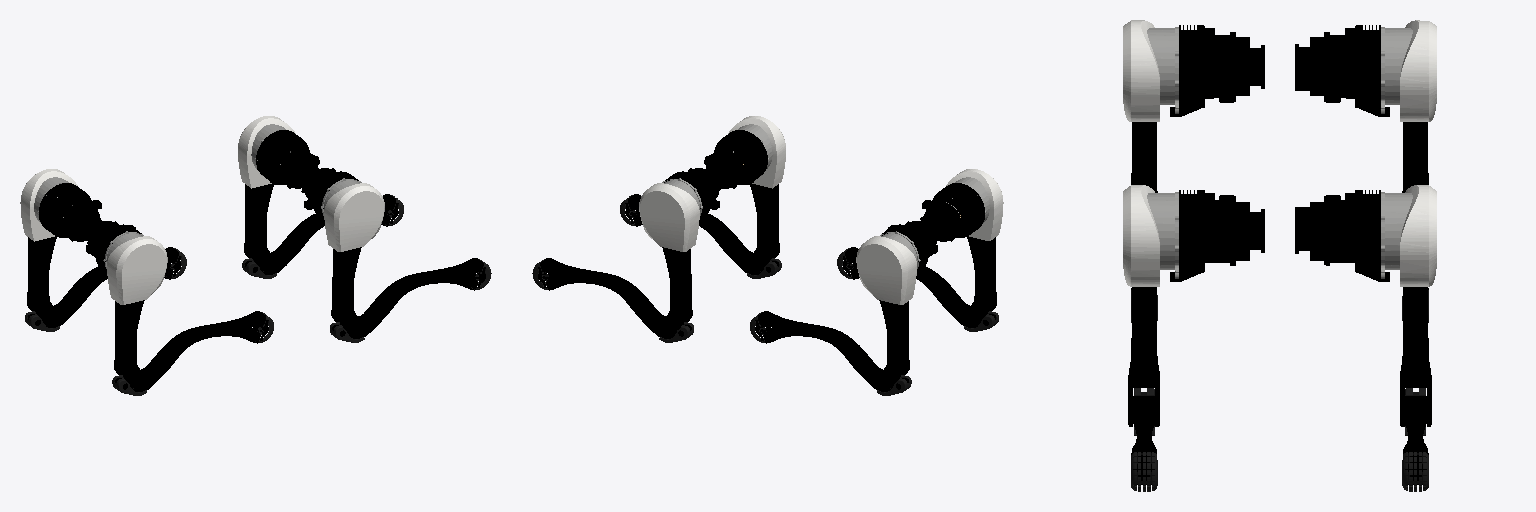
URDF robot description (X20):
<?xml version="1.0" encoding="utf-8"?>
<robot name="X20">


  <link
    name="BASE">
    <inertial>
      <origin
        xyz="0.005 0.000413 0.004"
        rpy="0 0 0" />
      <mass
        value="26.398" />
      <inertia ixx="0.1632" ixy="-5.2136E-05" ixz="-0.00019406" iyy="0.40648" iyz="8.2679E-05" izz="0.52596" />
    </inertial>
    <visual>
      <geometry>
        <mesh
          filename="package://X20/meshes/Torso.dae" />
      </geometry>
      <material
        name="">
        <color
          rgba="0.69804 0.69804 0.69804 1" />
      </material>
    </visual>
    <collision>
      <geometry>
        <mesh
          filename="package://X20/meshes/Torso.dae" />
      </geometry>
    </collision>
  </link>

  <link name="imu_link">
    <inertial>
      <mass value="0.0000001"/>
      <origin rpy="0 0 0" xyz="0 0 0"/>
      <inertia ixx="0.0000000001" ixy="0" ixz="0" iyy="0.00000000001" iyz="0" izz="0.000000001"/>
    </inertial>
  <visual>
    <origin rpy="0 0 0" xyz="0 0 0"/>
    <geometry>
      <box size="0.001 0.001 0.001"/>
    </geometry>
  </visual>
  <collision>
    <origin rpy="0 0 0" xyz="0 0 0"/>
    <geometry>
      <box size=".001 .001 .001"/>
    </geometry>
  </collision>
 </link>
 <joint name="imu_joint" type="fixed">
    <axis xyz="0 0 0"/> 
    <origin xyz="0 0 0"/>
    <parent link="BASE"/>
    <child link="imu_link"/>
  </joint>


  <link name="LF_HIP">
    <inertial>
      <origin xyz="-0.00075689 -0.0089129 -5.0528E-05" />
      <mass value="1.5767" />
      <inertia ixx="0.0012141" ixy="6.1989E-06" ixz="2.8652E-06" iyy="0.0016912" iyz="3.7E-06" izz="0.0013431" />
    </inertial>
    <visual>
      <geometry>
        <mesh filename="package://X20/meshes/FL_Hip.dae" />
      </geometry>
    </visual>
    <collision>
      <geometry>
        <mesh filename="package://X20/meshes/FL_Hip.dae" />
      </geometry>
    </collision>
  </link>

  <joint name="LF_HAA" type="revolute">
    <origin xyz="0.292 0.08 0" />
    <parent link="BASE" />
    <child link="LF_HIP" />
    <axis xyz="1 0 0" />
    <limit
      lower="-0.38397"
      upper="0.38397"
      effort="126.1"
      velocity="12"  />
  </joint>

  <link name="LF_THIGH">
    <inertial>
      <origin xyz="-0.0025264 -0.022118 -0.0292" />
      <mass value="3.0063" />
      <inertia ixx="0.0058102" ixy="4.2848E-05" ixz="-3.0437E-06" iyy="0.0080686" iyz="-6.889E-05" izz="0.003874" />
    </inertial>
    <visual>
      <geometry>
        <mesh filename="package://X20/meshes/L_Thigh.dae" />
      </geometry>
    </visual>
    <collision>
      <geometry>
        <mesh filename="package://X20/meshes/L_Thigh.dae" />
      </geometry>
    </collision>
  </link>

  <joint name="LF_HFE" type="revolute">
    <origin xyz="0 0.12325 0" />
    <parent link="LF_HIP" />
    <child link="LF_THIGH" />
    <axis xyz="0 -1 0" />
    <limit
      lower="-2.75762"
      upper="0.48869"
      effort="111.4"
      velocity="19"/>
  </joint>

  <link name="LF_SHANK">
    <inertial>
      <origin xyz="0.0075224 2.5888E-05 -0.17586" />
      <mass value="0.54849" />
      <inertia ixx="0.0057" ixy="1.16E-07" ixz="0.000153" iyy="0.006" iyz="-1.12E-06" izz="0.00029" />
    </inertial>
    <visual>
      <geometry>
        <mesh filename="package://X20/meshes/Shank.dae" />
      </geometry>
    </visual>
    <collision>
      <geometry>
        <mesh filename="package://X20/meshes/Shank.dae" />
      </geometry>
    </collision>
  </link>

  <joint name="LF_KFE" type="revolute">
    <origin xyz="0 0 -0.3" />
    <parent link="LF_THIGH" />
    <child link="LF_SHANK" />
    <axis xyz="0 -1 0" />
    <limit
      lower="0.66322"
      upper="2.84488"
      effort="195.8"
      velocity="19"  />
  </joint>

  <link name="RF_HIP">
    <inertial>
      <origin xyz="-0.000757 0.009 5.0528E-05" />
      <mass value="1.5767" />
      <inertia ixx="0.0012141" ixy="-6.1989E-06" ixz="-2.8652E-06" iyy="0.0016912" iyz="3.7E-06" izz="0.0013431" />
    </inertial>
    <visual>
      <geometry>
        <mesh filename="package://X20/meshes/FR_Hip.dae" />
      </geometry>
    </visual>
    <collision>
      <geometry>
        <mesh filename="package://X20/meshes/FR_Hip.dae" />
      </geometry>
    </collision>
  </link>

  <joint name="RF_HAA" type="revolute">
    <origin xyz="0.292 -0.08 0" />
    <parent link="BASE" />
    <child link="RF_HIP" />
    <axis xyz="-1 0 0" />
    <limit
      lower="-0.38397"
      upper="0.38397"
      effort="126.1"
      velocity="12"  />
  </joint>

  <link name="RF_THIGH">
    <inertial>
      <origin xyz="-0.0025266 0.022119 -0.029194" />
      <mass value="3.0062" />
      <inertia ixx="0.00581" ixy="-4.2781E-05" ixz="-3.0682E-06" iyy="0.0080684" iyz="6.8812E-05" izz="0.0038739" />
    </inertial>
    <visual>
      <geometry>
        <mesh filename="package://X20/meshes/R_Thigh.dae" />
      </geometry>
    </visual>
    <collision>
      <geometry>
        <mesh filename="package://X20/meshes/R_Thigh.dae" />
      </geometry>
    </collision>
  </link>

  <joint name="RF_HFE" type="revolute">
    <origin xyz="0 -0.12325 0" />
    <parent link="RF_HIP" />
    <child link="RF_THIGH" />
    <axis xyz="0 -1 0" />
    <limit
      lower="-2.75762"
      upper="0.48869"
      effort="111.4"
      velocity="19"/>
  </joint>

  <link name="RF_SHANK">
    <inertial>
      <origin xyz="0.0075224 2.5888E-05 -0.17586" />
      <mass value="0.54849" />
      <inertia ixx="0.0057" ixy="1.16E-07" ixz="0.000153" iyy="0.006" iyz="-1.12E-06" izz="0.00029" />
    </inertial>
    <visual>
      <geometry>
        <mesh filename="package://X20/meshes/Shank.dae" />
      </geometry>
    </visual>
    <collision>
      <geometry>
        <mesh filename="package://X20/meshes/Shank.dae" />
      </geometry>
    </collision>
  </link>

  <joint name="RF_KFE" type="revolute">
    <origin xyz="0 0 -0.3" />
    <parent link="RF_THIGH" />
    <child link="RF_SHANK" />
    <axis xyz="0 -1 0" />
    <limit
      lower="0.66322"
      upper="2.84488"
      effort="195.8"
      velocity="19"  />
  </joint>

  <link name="LH_HIP">
    <inertial>
      <origin xyz="0.000757 -0.009 5.053E-05" />
      <mass value="1.5767" />
      <inertia ixx="0.00121" ixy="-6.2E-06" ixz="2.9E-06" iyy="0.0017" iyz="-3.7E-06" izz="0.00134" />
    </inertial>
    <visual>
      <geometry>
        <mesh filename="package://X20/meshes/HL_Hip.dae" />
      </geometry>
    </visual>
    <collision>
      <geometry>
        <mesh filename="package://X20/meshes/HL_Hip.dae" />
      </geometry>
    </collision>
  </link>

  <joint name="LH_HAA" type="revolute">
    <origin xyz="-0.292 0.08 0" />
    <parent link="BASE" />
    <child link="LH_HIP" />
    <axis xyz="1 0 0" />
    <limit
      lower="-0.38397"
      upper="0.38397"
      effort="126.1"
      velocity="12"  />
  </joint>

  <link name="LH_THIGH">
    <inertial>
      <origin xyz="-0.0025264 -0.022118 -0.0292" />
      <mass value="3.0063" />
      <inertia ixx="0.0058102" ixy="4.2848E-05" ixz="-3.0433E-06" iyy="0.008" iyz="-6.8889E-05" izz="0.003874" />
    </inertial>
    <visual>
      <geometry>
        <mesh filename="package://X20/meshes/L_Thigh.dae" />
      </geometry>
    </visual>
    <collision>
      <geometry>
        <mesh filename="package://X20/meshes/L_Thigh.dae" />
      </geometry>
    </collision>
  </link>

  <joint name="LH_HFE" type="revolute">
    <origin xyz="0 0.12325 0" />
    <parent link="LH_HIP" />
    <child link="LH_THIGH" />
    <axis xyz="0 -1 0" />
    <limit
      lower="-2.75762"
      upper="0.48869"
      effort="111.4"
      velocity="19"/>
  </joint>

  <link name="LH_SHANK">
    <inertial>
      <origin xyz="0.0075224 2.5888E-05 -0.17586" />
      <mass value="0.54849" />
      <inertia ixx="0.0057" ixy="1.16E-07" ixz="0.000153" iyy="0.006" iyz="-1.12E-06" izz="0.00029" />
    </inertial>
    <visual>
      <geometry>
        <mesh filename="package://X20/meshes/Shank.dae" />
      </geometry>
    </visual>
    <collision>
      <geometry>
        <mesh filename="package://X20/meshes/Shank.dae" />
      </geometry>
    </collision>
  </link>

  <joint name="LH_KFE" type="revolute">
    <origin xyz="0 0 -0.3" />
    <parent link="LH_THIGH" />
    <child link="LH_SHANK" />
    <axis xyz="0 -1 0" />
    <limit
      lower="0.66322"
      upper="2.84488"
      effort="195.8"
      velocity="19"  />
  </joint>

  <link name="RH_HIP">
    <inertial>
      <origin xyz="0.00075689 0.0089129 -5.0528E-05" />
      <mass value="1.5767" />
      <inertia ixx="0.0012141" ixy="6.1989E-06" ixz="-2.8652E-06" iyy="0.0016912" iyz="-3.7E-06" izz="0.0013431" />
    </inertial>
    <visual>
      <geometry>
        <mesh filename="package://X20/meshes/HR_Hip.dae" />
      </geometry>
    </visual>
    <collision>
      <geometry>
        <mesh filename="package://X20/meshes/HR_Hip.dae" />
      </geometry>
    </collision>
  </link>

  <joint name="RH_HAA" type="revolute">
    <origin xyz="-0.292 -0.08 0" />
    <parent link="BASE" />
    <child link="RH_HIP" />
    <axis xyz="-1 0 0" />
    <limit
      lower="-0.38397"
      upper="0.38397"
      effort="126.1"
      velocity="12"  />
  </joint>

  <link name="RH_THIGH">
    <inertial>
      <origin xyz="-0.0025266 0.022119 -0.029194" />
      <mass value="3.0062" />
      <inertia ixx="0.00581" ixy="-4.2781E-05" ixz="-3.0681E-06" iyy="0.0080684" iyz="6.8812E-05" izz="0.0038739" />
    </inertial>
    <visual>
      <geometry>
        <mesh filename="package://X20/meshes/R_Thigh.dae" />
      </geometry>
    </visual>
    <collision>
      <geometry>
        <mesh filename="package://X20/meshes/R_Thigh.dae" />
      </geometry>
    </collision>
  </link>

  <joint name="RH_HFE" type="revolute">
    <origin xyz="0 -0.12325 0" />
    <parent link="RH_HIP" />
    <child link="RH_THIGH" />
    <axis xyz="0 -1 0" />
    <limit
      lower="-2.75762"
      upper="0.48869"
      effort="111.4"
      velocity="19"/>
  </joint>

  <link name="RH_SHANK">
    <inertial>
      <origin xyz="0.0075224 2.589E-05 -0.17586" />
      <mass value="0.54849" />
      <inertia ixx="0.0056981" ixy="1.1608E-07" ixz="0.00015292" iyy="0.0059026" iyz="-1.1243E-06" izz="0.00028822" />
    </inertial>
    <visual>
      <geometry>
        <mesh filename="package://X20/meshes/Shank.dae" />
      </geometry>
    </visual>
    <collision>
      <geometry>
        <mesh filename="package://X20/meshes/Shank.dae" />
      </geometry>
    </collision>
  </link>

  <joint name="RH_KFE" type="revolute">
    <origin xyz="0 0 -0.3" />
    <parent link="RH_THIGH" />
    <child link="RH_SHANK" />
    <axis xyz="0 -1 0" />
    <limit
      lower="0.66322"
      upper="2.84488"
      effort="195.8"
      velocity="19"  />
  </joint>

  <link name="LF_FOOT">
  </link>
  <joint name = "LF_FOOT_joint" type = "fixed">
    <origin xyz="0 0 -0.33" rpy = "0 0 0"/>
    <parent link="LF_SHANK"/>
    <child link = "LF_FOOT"/>
  </joint>

  <link name="RF_FOOT">
  </link>
  <joint name = "RF_FOOT_joint" type = "fixed">
    <origin xyz="0 0 -0.33" rpy = "0 0 0"/>
    <parent link="RF_SHANK"/>
    <child link = "RF_FOOT"/>
  </joint>

  <link name="LH_FOOT">
  </link>
  <joint name = "LH_FOOT_joint" type = "fixed">
    <origin xyz="0 0 -0.33" rpy = "0 0 0"/>
    <parent link="LH_SHANK"/>
    <child link = "LH_FOOT"/>
  </joint>

  <link name="RH_FOOT">
  </link>
  <joint name = "RH_FOOT_joint" type = "fixed">
    <origin xyz="0 0 -0.33" rpy = "0 0 0"/>
    <parent link="RH_SHANK"/>
    <child link = "RH_FOOT"/>
  </joint>

</robot>

--- Render facts (derived) ---
3 views of the same robot in one strip: view 1: azimuth 30°, elevation 25°; view 2: azimuth 150°, elevation 25°; view 3: azimuth 270°, elevation 25° (orthographic).
Model X20 with 18 links and 17 joints (12 revolute, 5 fixed), rooted at BASE, posed joints at zero except 4 at the middle of their limits (LF_KFE = 1.75, RF_KFE = 1.75, LH_KFE = 1.75, RH_KFE = 1.75).
Links seen in each view (by area): view 1: RH_THIGH, RF_THIGH, LH_THIGH, LF_THIGH, RF_SHANK, RH_SHANK, LH_SHANK, LF_SHANK, LH_HIP, LF_HIP, RF_HIP; view 2: LH_THIGH, LF_THIGH, RH_THIGH, RF_THIGH, LF_SHANK, LH_SHANK, RH_SHANK, RF_SHANK, RH_HIP, RF_HIP, LF_HIP; view 3: LF_THIGH, RF_THIGH, RH_THIGH, LH_THIGH, LH_HIP, LF_HIP, RH_HIP, RF_HIP, RF_SHANK, LF_SHANK.
Link boxes in pixels (x1,y1,x2,y2): RH_THIGH: (95,224,167,391); RF_THIGH: (313,171,384,338); LH_THIGH: (20,169,91,327); LF_THIGH: (238,116,309,274); RF_SHANK: (330,258,491,342); RH_SHANK: (112,311,273,395); LH_SHANK: (25,247,186,331); LF_SHANK: (242,194,403,278); LH_HIP: (51,197,101,241); LF_HIP: (270,144,319,188); RF_HIP: (301,168,335,209); LH_THIGH: (856,224,928,391); LF_THIGH: (639,171,710,338); RH_THIGH: (932,169,1003,327); RF_THIGH: (714,116,785,274); LF_SHANK: (532,258,693,342); LH_SHANK: (750,311,911,395); RH_SHANK: (837,247,998,331); RF_SHANK: (620,194,781,278); RH_HIP: (920,197,972,241); RF_HIP: (704,144,754,188); LF_HIP: (688,168,722,209); LF_THIGH: (1345,185,1436,426); RF_THIGH: (1123,185,1214,426); RH_THIGH: (1123,20,1214,192); LH_THIGH: (1345,20,1436,192); LH_HIP: (1295,32,1347,102); LF_HIP: (1295,195,1347,265); RH_HIP: (1212,32,1264,102); RF_HIP: (1212,195,1264,265); RF_SHANK: (1131,388,1157,491); LF_SHANK: (1402,388,1428,491).
Size in the robot's own frame: 1.01 by 0.47 by 0.4039 metres.
12 mesh visuals loaded from 8 distinct referenced files (7 Collada DAE); not drawn: 1 (reference not matched to a file when rendering).